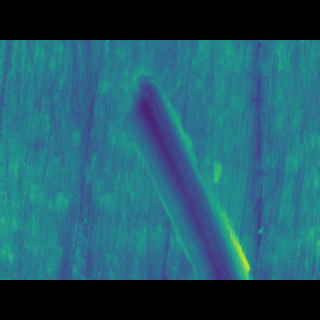Loch: (119, 92, 257, 249)
